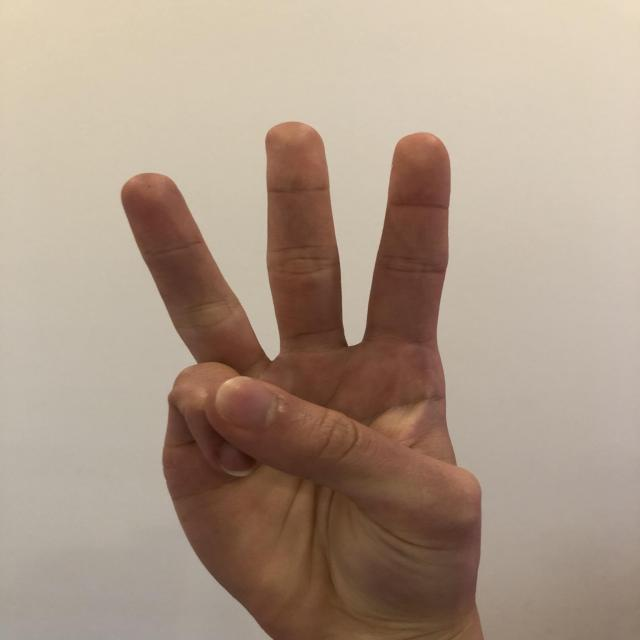W: (104, 107, 495, 632)
